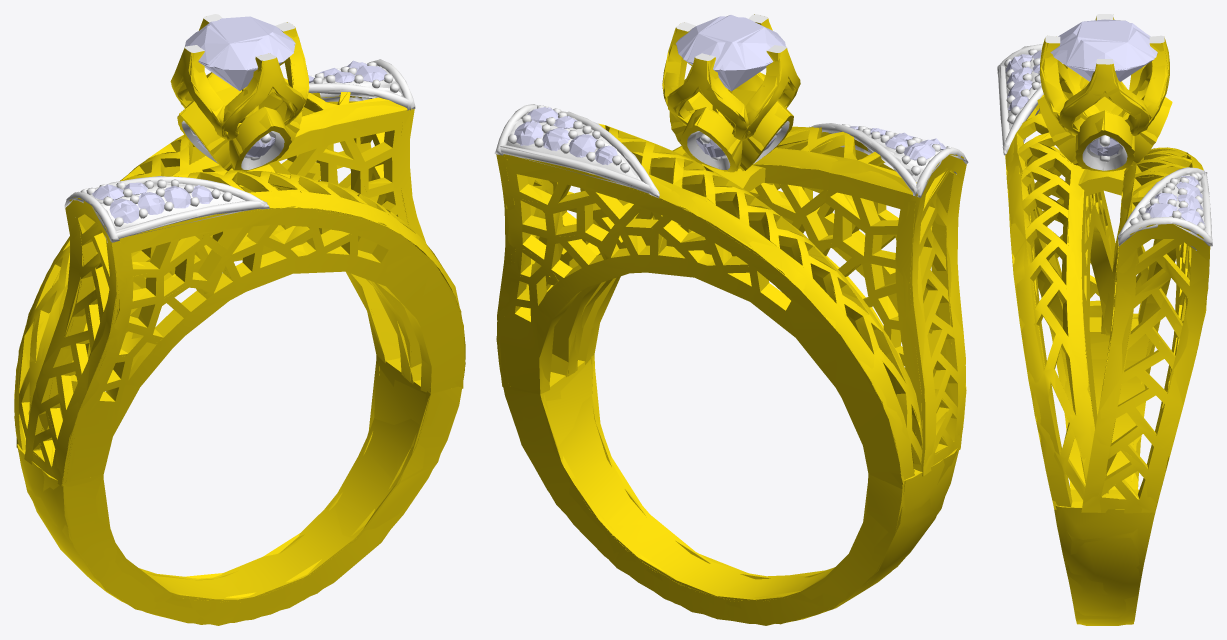
Rendered from DLR-D000685061.glb.
3 views of the same model, side by side, from view 1: azimuth 30°, elevation 25°; view 2: azimuth 150°, elevation 25°; view 3: azimuth 270°, elevation 25° (orthographic).
Visible parts, largest first — view 1: highPolyMesh, lowPolyMesh; view 2: highPolyMesh, lowPolyMesh; view 3: highPolyMesh, lowPolyMesh.
Part boxes in pixels (x1,y1,x2,y2): highPolyMesh: (14, 14, 465, 624); lowPolyMesh: (14, 14, 465, 625); highPolyMesh: (495, 14, 967, 624); lowPolyMesh: (494, 14, 968, 625); highPolyMesh: (997, 14, 1212, 625); lowPolyMesh: (997, 14, 1212, 624).
Bounding box in the file's own units: 0.0208 × 0.0281 × 0.00955.
